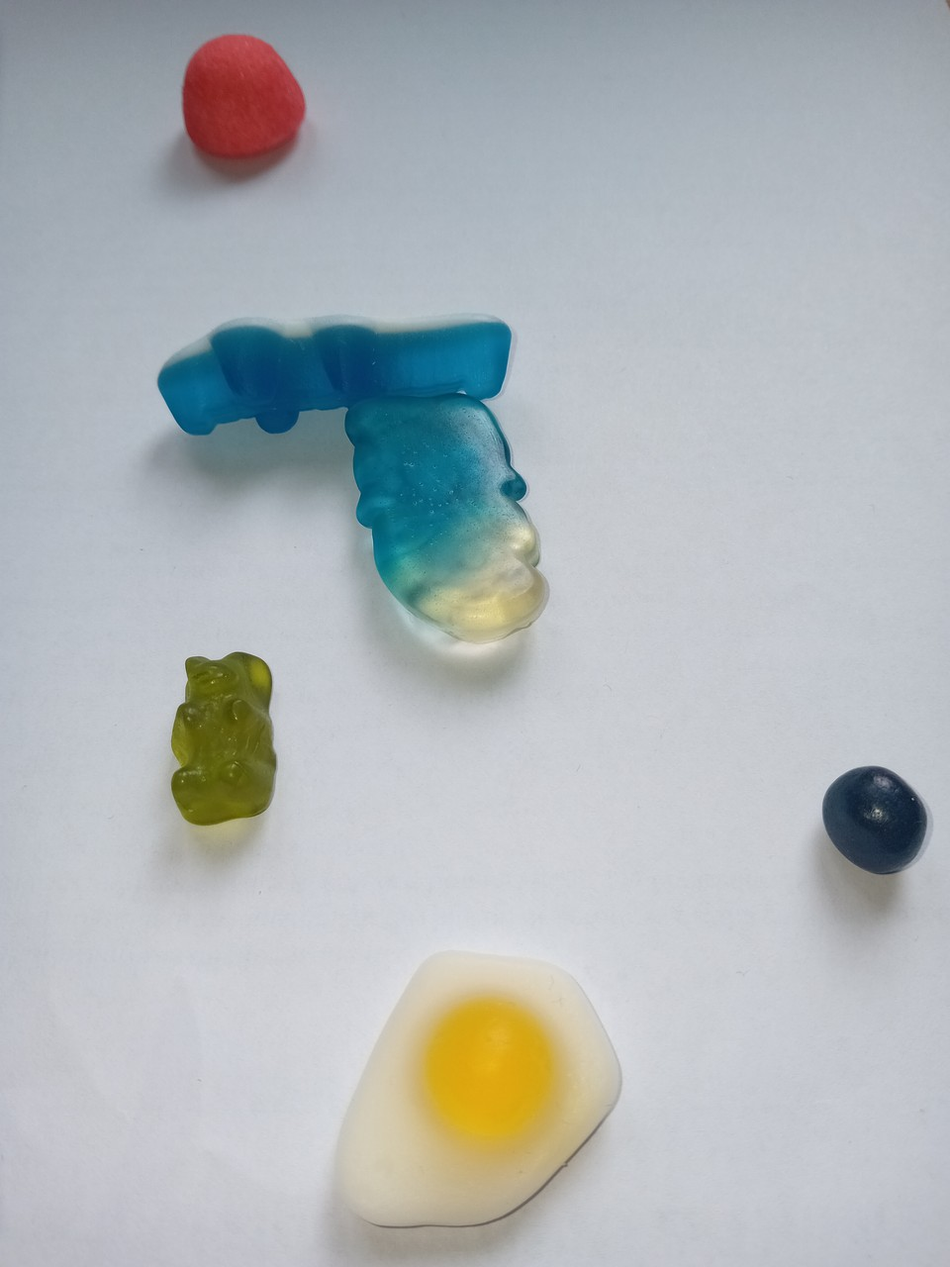crocodile_bleu: (148, 308, 520, 436)
dragibus_noir: (817, 765, 932, 876)
oeuf_oeuf: (326, 943, 630, 1235)
ourson_vert: (157, 650, 284, 830)
schtroumpf_bleu-blanc: (345, 389, 552, 648)
tagada_fraise: (173, 31, 309, 160)
